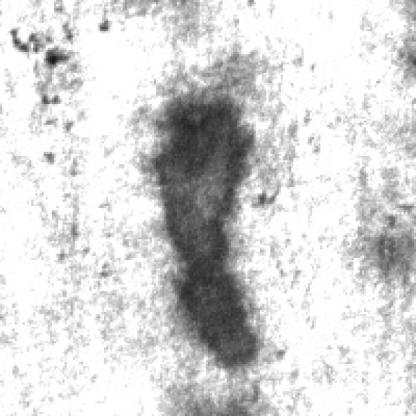patches: (146, 83, 258, 366)
